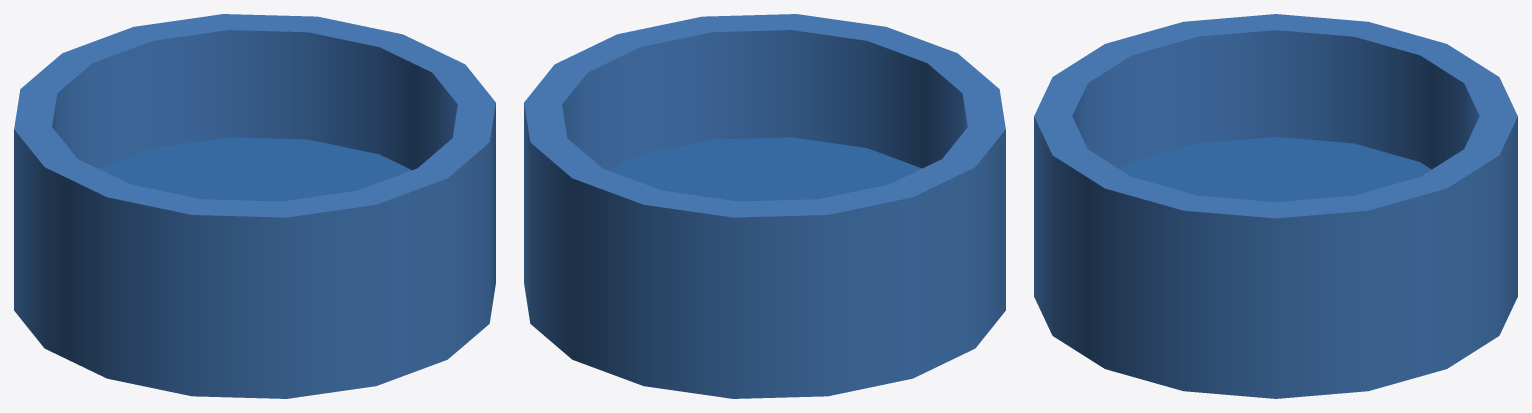
File: hop.fbx
3 renders of one model, left to right at view 1: azimuth 30°, elevation 25°; view 2: azimuth 150°, elevation 25°; view 3: azimuth 270°, elevation 25°, orthographic.
Visible parts, largest first — view 1: hop; view 2: hop; view 3: hop.
Part boxes in pixels (x1,y1,x2,y2): hop: (14, 14, 495, 398); hop: (524, 14, 1005, 398); hop: (1034, 14, 1517, 398).
Size of the model in its own units: 40.54 by 16.7 by 40.54.
